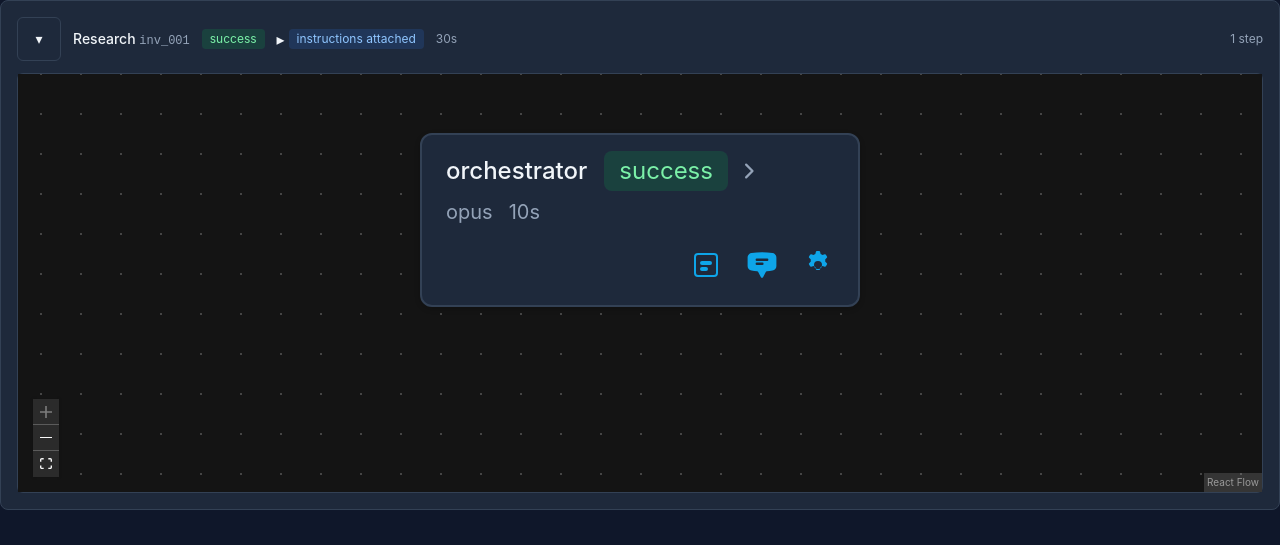
InvocationCard › expands the instruction disclosure to reveal the full recorded text
Click the text with test id "instruction-badge-inv_001" at x=356, y=39, box [289,29,424,49]
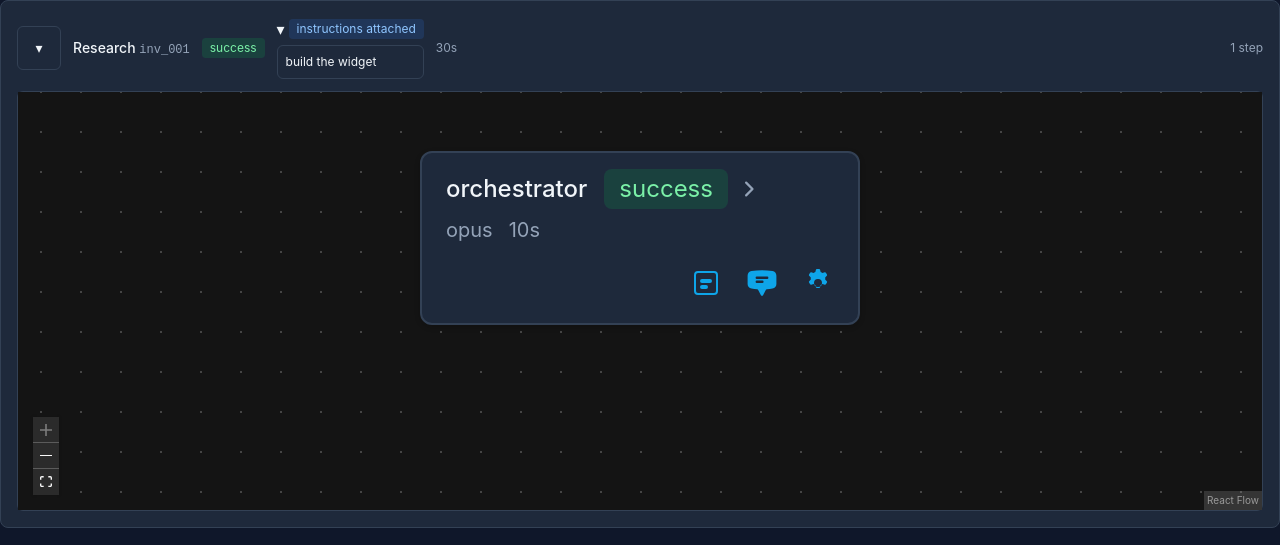
Check: the element with test id "instruction-badge-inv_001-text" reads "build the widget", box [286,54,376,69]
